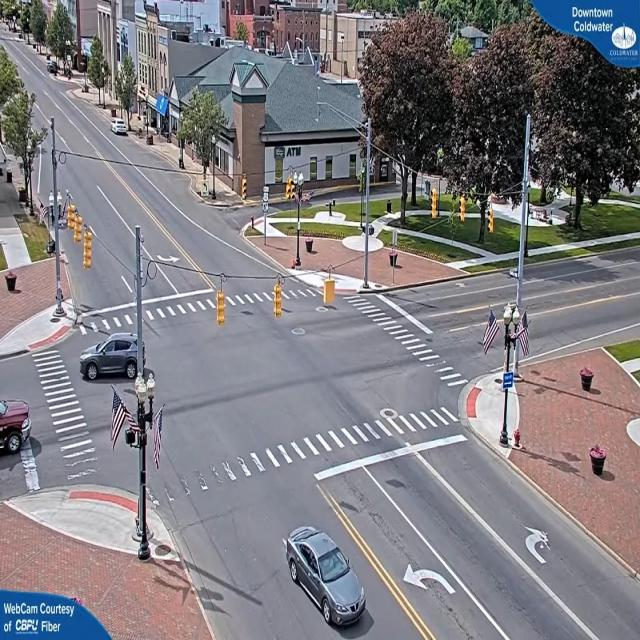car: (284, 525, 366, 629), (78, 334, 144, 382), (112, 120, 129, 136)
